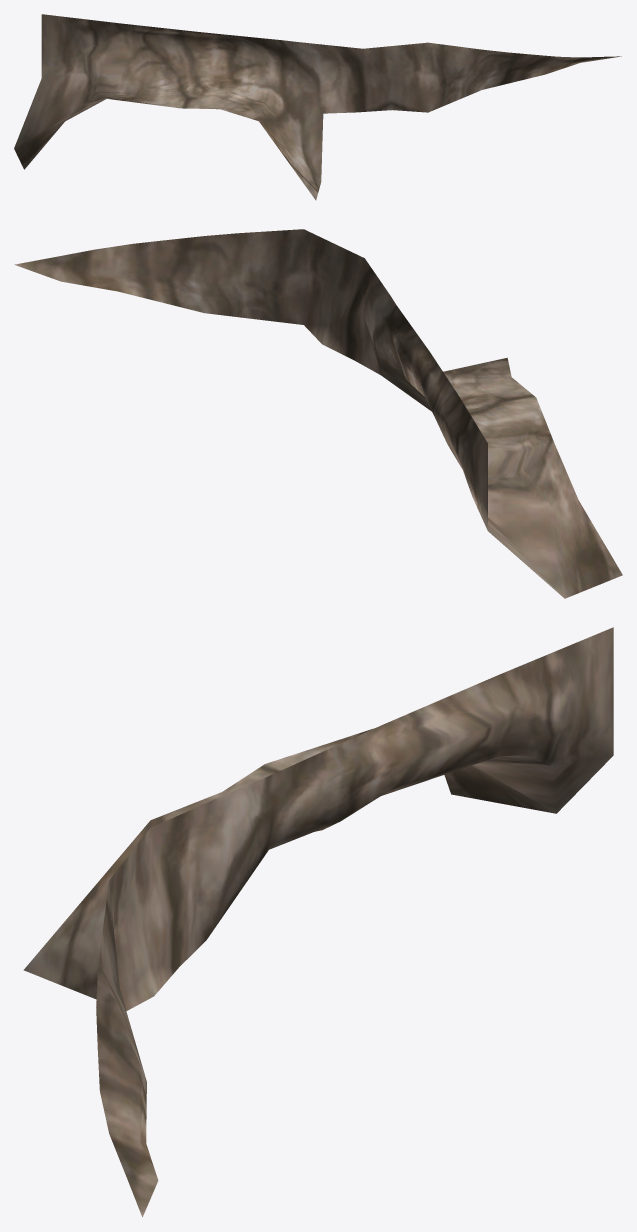
The model's file is EKH_BARRELROOM_PS_JA1_OBJECT01.fbx.
The picture shows the model from 3 angles, top to bottom: view 1: azimuth 30°, elevation 25°; view 2: azimuth 150°, elevation 25°; view 3: azimuth 270°, elevation 25°; orthographic projection. The views are drawn at different scales.
Parts seen in each view (by area): view 1: EKH_BARRELROOM_PS_JA1_OBJECT01; view 2: EKH_BARRELROOM_PS_JA1_OBJECT01; view 3: EKH_BARRELROOM_PS_JA1_OBJECT01.
Boxes of the visible parts, left/top/right/bottom form: EKH_BARRELROOM_PS_JA1_OBJECT01: left=14, top=14, right=621, bottom=200; EKH_BARRELROOM_PS_JA1_OBJECT01: left=14, top=229, right=622, bottom=598; EKH_BARRELROOM_PS_JA1_OBJECT01: left=23, top=627, right=613, bottom=1217.
Size of the model in its own units: 123729 by 25951 by 60622.
Materials: 1 (1 with a texture image).
